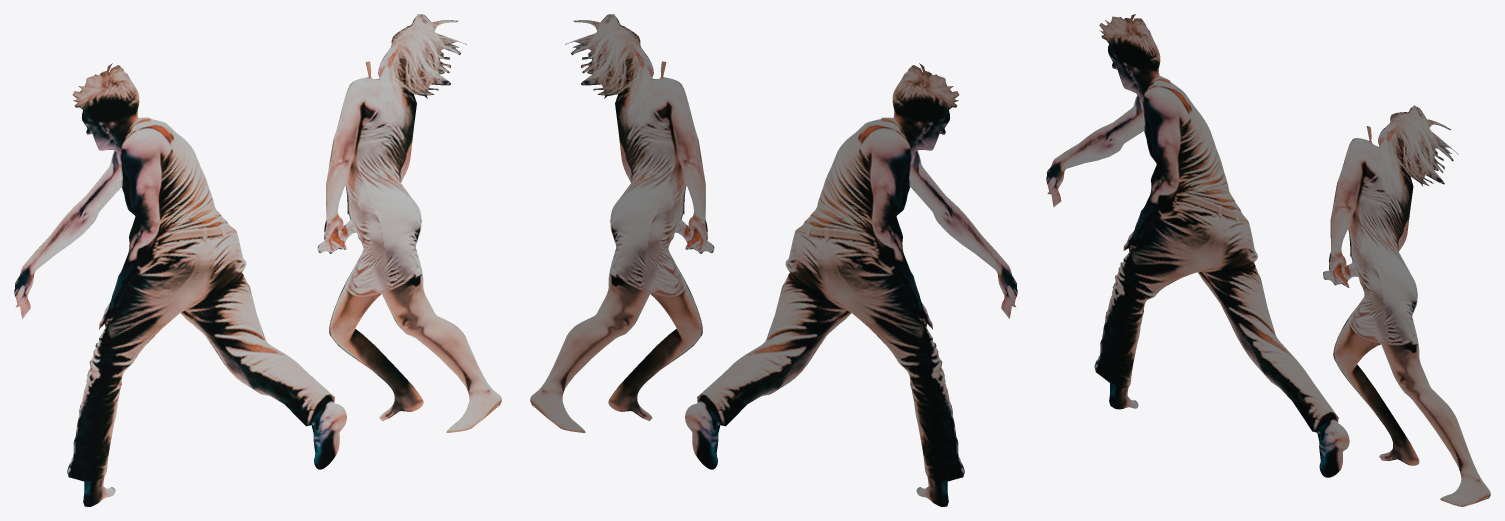
The model's file is sunline cut.dae.
The picture shows the model from 3 angles, left to right: view 1: azimuth 30°, elevation 25°; view 2: azimuth 150°, elevation 25°; view 3: azimuth 330°, elevation 25°; orthographic projection. The views are drawn at different scales.
Parts seen in each view (by area): view 1: Extrude, Extrude_2; view 2: Extrude, Extrude_2; view 3: Extrude, Extrude_2.
Part boxes in pixels (x1,y1,x2,y2): Extrude: (14, 63, 346, 506); Extrude_2: (317, 14, 501, 432); Extrude: (685, 63, 1017, 506); Extrude_2: (530, 14, 714, 432); Extrude: (1046, 14, 1349, 477); Extrude_2: (1323, 105, 1490, 506).
Bounding box in the file's own units: 457 × 410 × 0.
2 materials, 2 textured.
